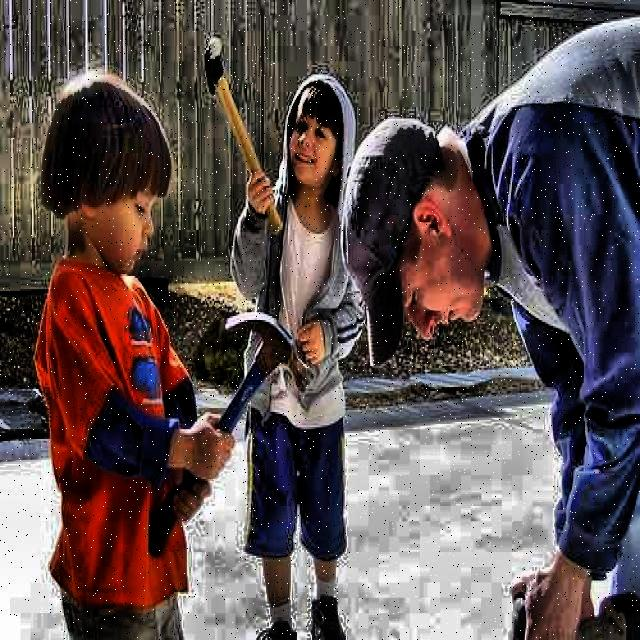hammer: (160, 311, 314, 536), (203, 37, 289, 239)
